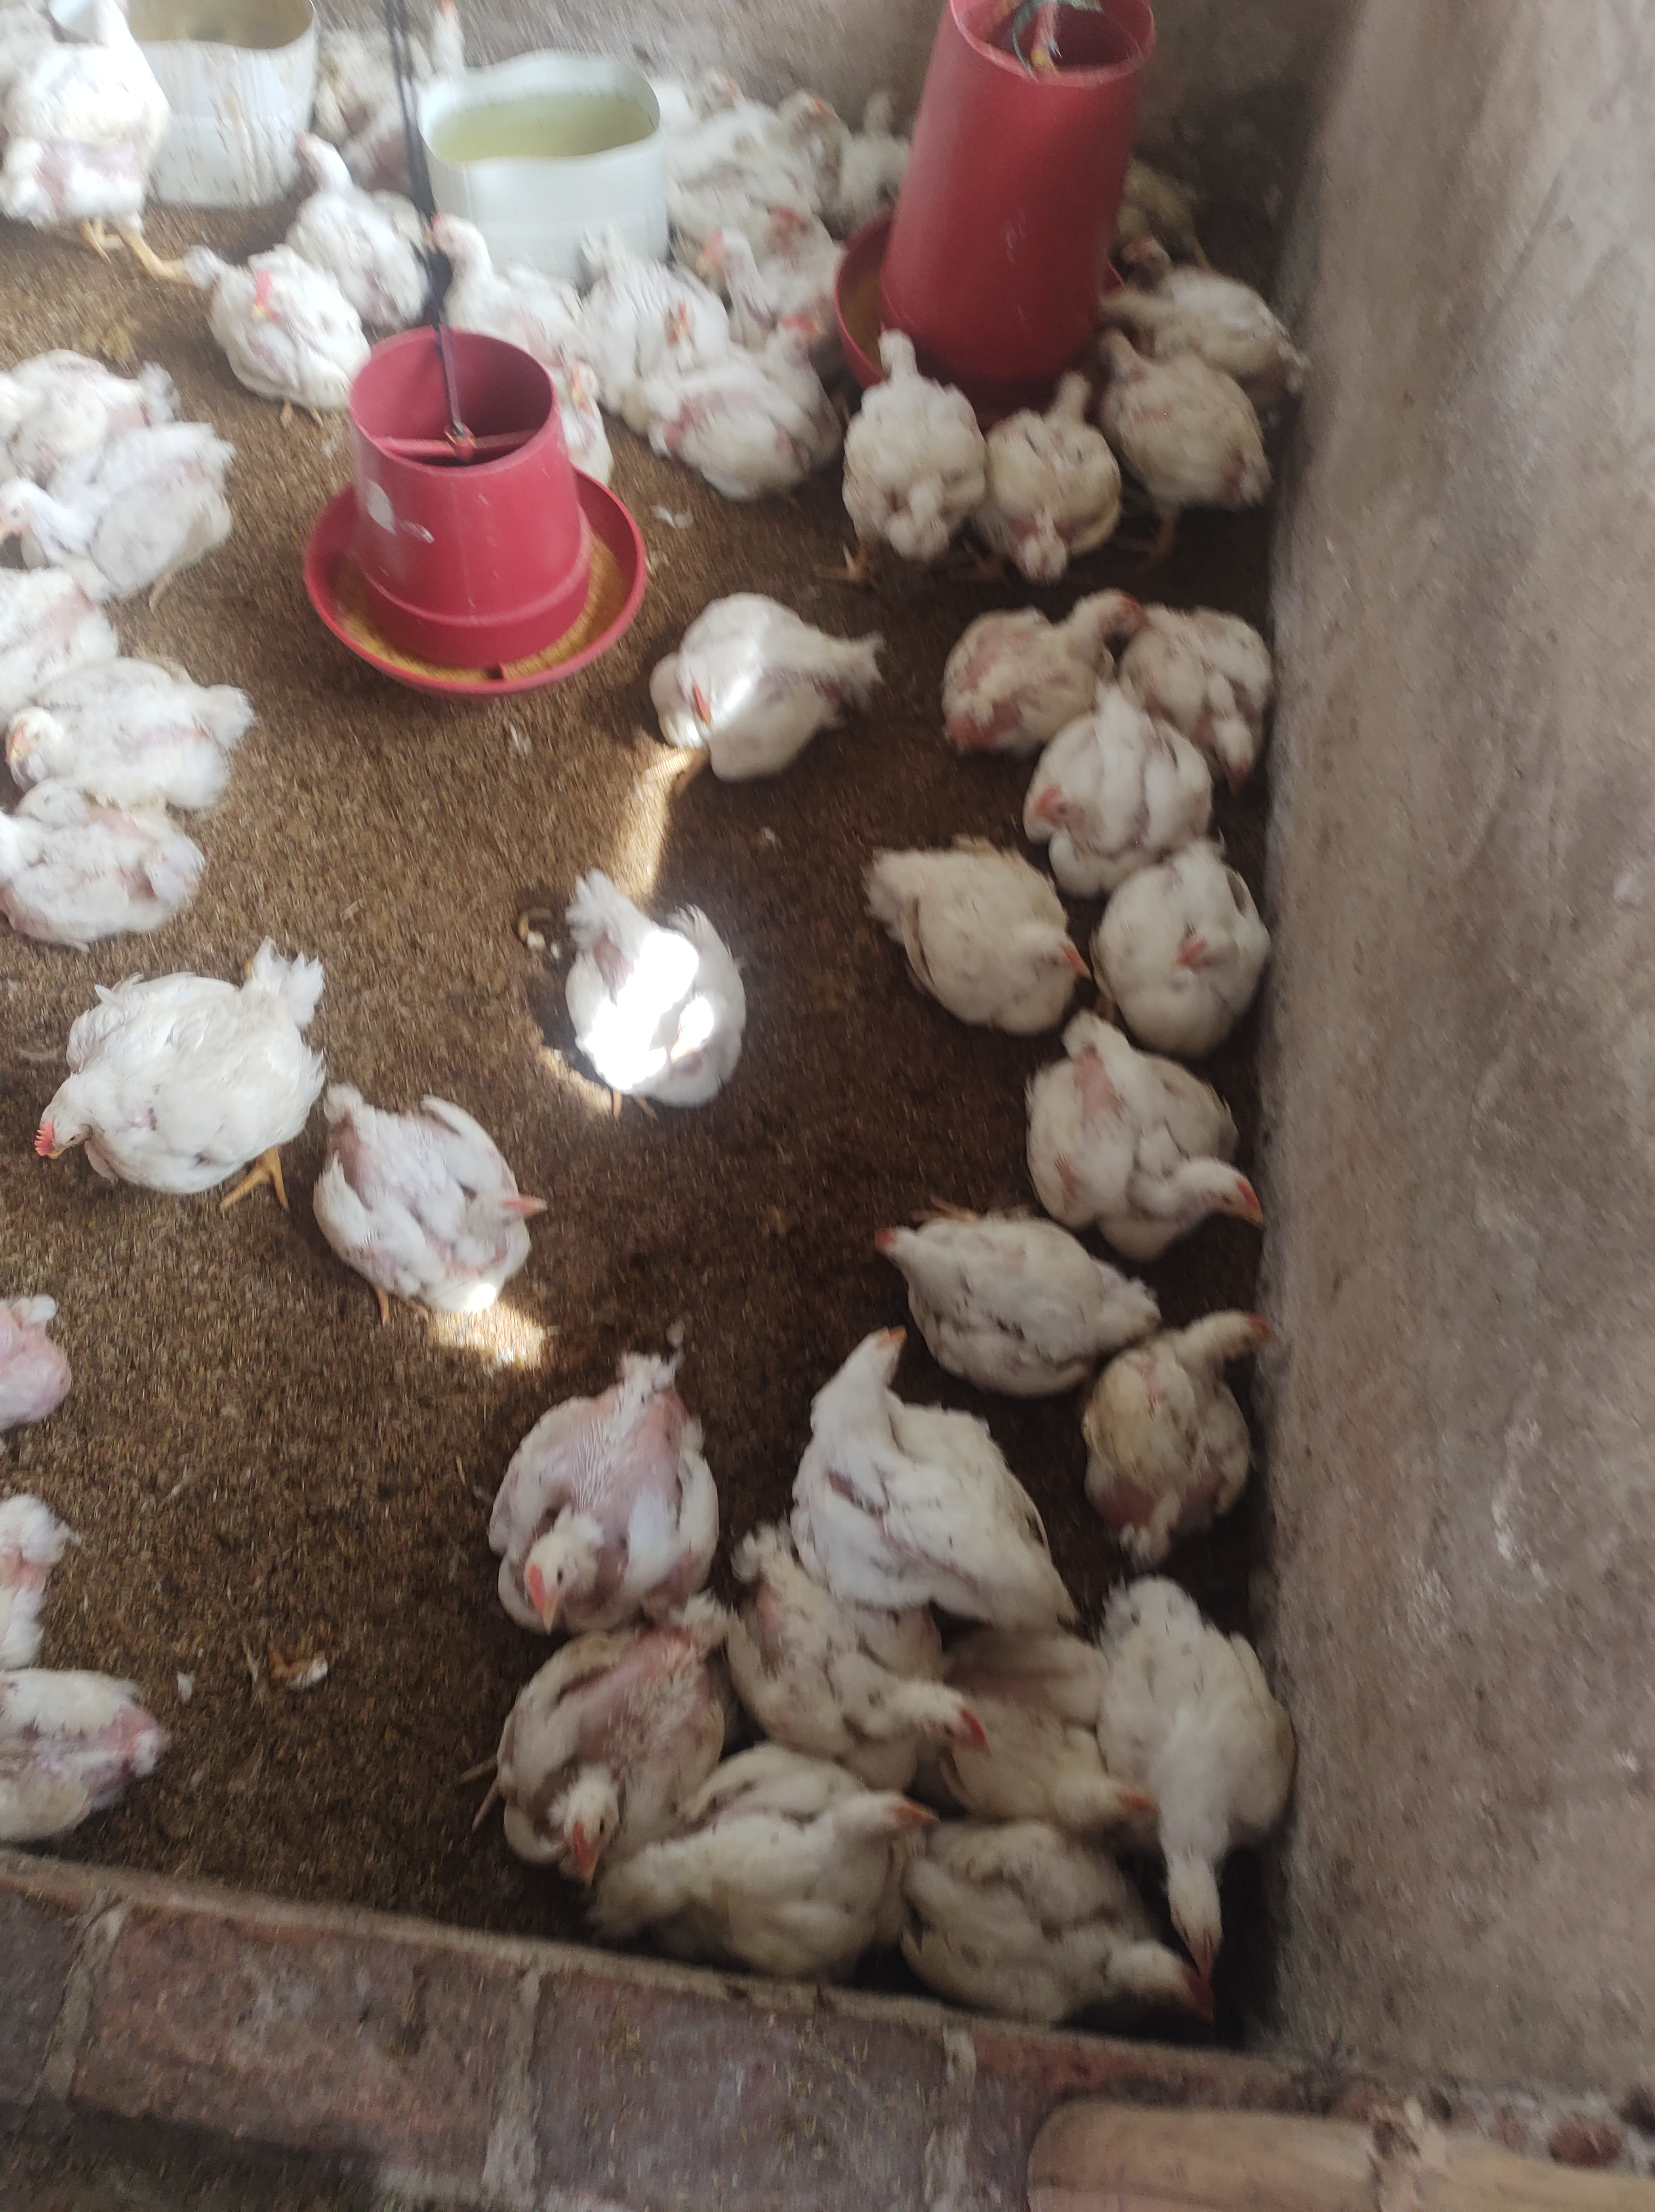Pollos: (23, 934, 329, 1229), (1085, 1572, 1304, 1969), (812, 1320, 1081, 1626), (480, 1612, 761, 1894), (482, 1360, 739, 1635), (635, 1739, 935, 1972), (904, 1824, 1219, 2028), (716, 1530, 989, 1762), (516, 856, 753, 1111), (855, 1186, 1161, 1374), (1026, 1014, 1281, 1236), (629, 570, 892, 783), (320, 1083, 549, 1322), (1066, 1316, 1281, 1556), (857, 842, 1081, 1063), (925, 1616, 1156, 1824), (0, 0, 172, 268), (1093, 315, 1278, 541), (0, 438, 263, 596), (0, 636, 256, 798), (1130, 590, 1306, 821), (829, 318, 984, 562), (0, 763, 210, 941), (0, 1656, 188, 1852), (266, 101, 426, 310), (935, 567, 1130, 736), (989, 362, 1130, 590), (1093, 849, 1273, 1028), (216, 256, 398, 430), (1116, 216, 1297, 388), (1020, 706, 1205, 866), (687, 303, 833, 468), (0, 332, 169, 463), (0, 1275, 110, 1440), (426, 195, 528, 356), (0, 1487, 75, 1661), (589, 240, 706, 344), (1100, 160, 1219, 254), (843, 77, 916, 186), (758, 198, 840, 282), (681, 56, 748, 129), (770, 71, 840, 134)
